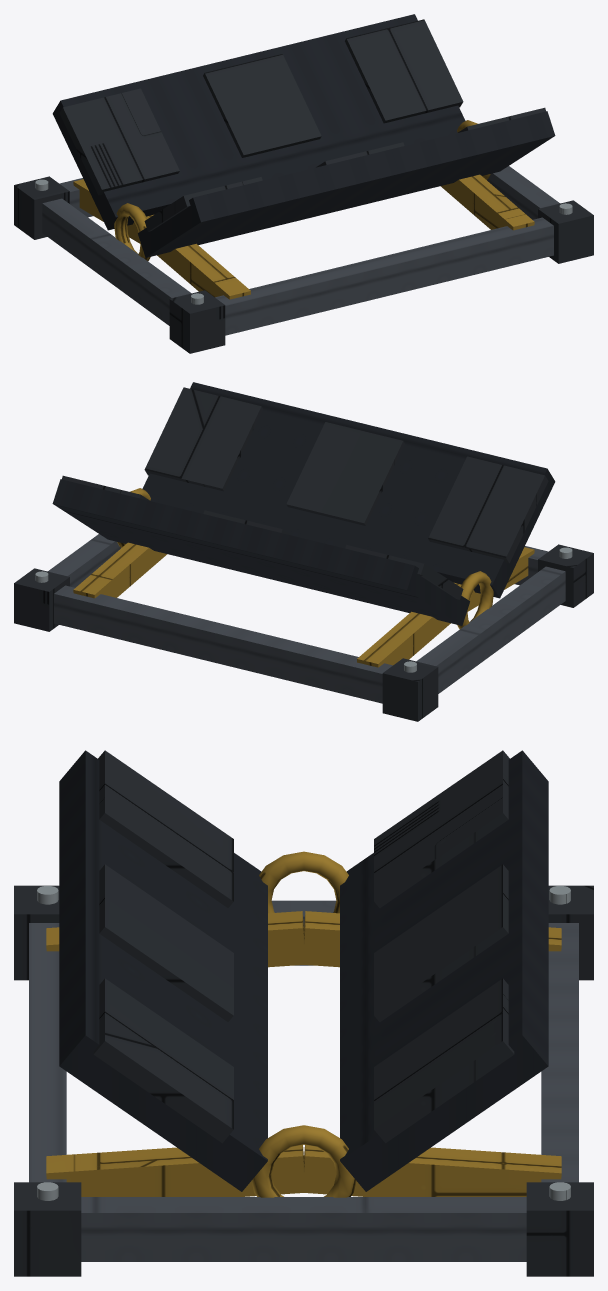
Rendered from cargo-v-load-cradle_lod1.glb.
The picture shows the model from 3 angles, top to bottom: view 1: azimuth 30°, elevation 25°; view 2: azimuth 150°, elevation 25°; view 3: azimuth 270°, elevation 25°; orthographic projection. The views are drawn at different scales.
Visible parts, largest first — view 1: LOD1_MechanicalDark, LOD1_Armor, LOD1_Mechanical, LOD1_Livery; view 2: LOD1_MechanicalDark, LOD1_Armor, LOD1_Mechanical, LOD1_Livery; view 3: LOD1_MechanicalDark, LOD1_Armor, LOD1_Mechanical, LOD1_Livery, LOD1_BrushedMetal.
Boxes of the visible parts, x1,y1,x2,y2 form: LOD1_MechanicalDark: (52, 14, 555, 257); LOD1_Armor: (14, 19, 593, 353); LOD1_Mechanical: (42, 166, 559, 335); LOD1_Livery: (73, 120, 534, 299); LOD1_MechanicalDark: (52, 382, 555, 625); LOD1_Armor: (14, 387, 593, 721); LOD1_Mechanical: (48, 534, 565, 703); LOD1_Livery: (73, 488, 534, 667); LOD1_MechanicalDark: (59, 750, 548, 1191); LOD1_Armor: (14, 750, 593, 1276); LOD1_Mechanical: (29, 900, 578, 1261); LOD1_Livery: (46, 851, 561, 1197); LOD1_BrushedMetal: (37, 886, 570, 1200).
Bounding box in the file's own units: 2.85 × 0.9059 × 2.15.
Materials: 5 (5 with a texture image).
